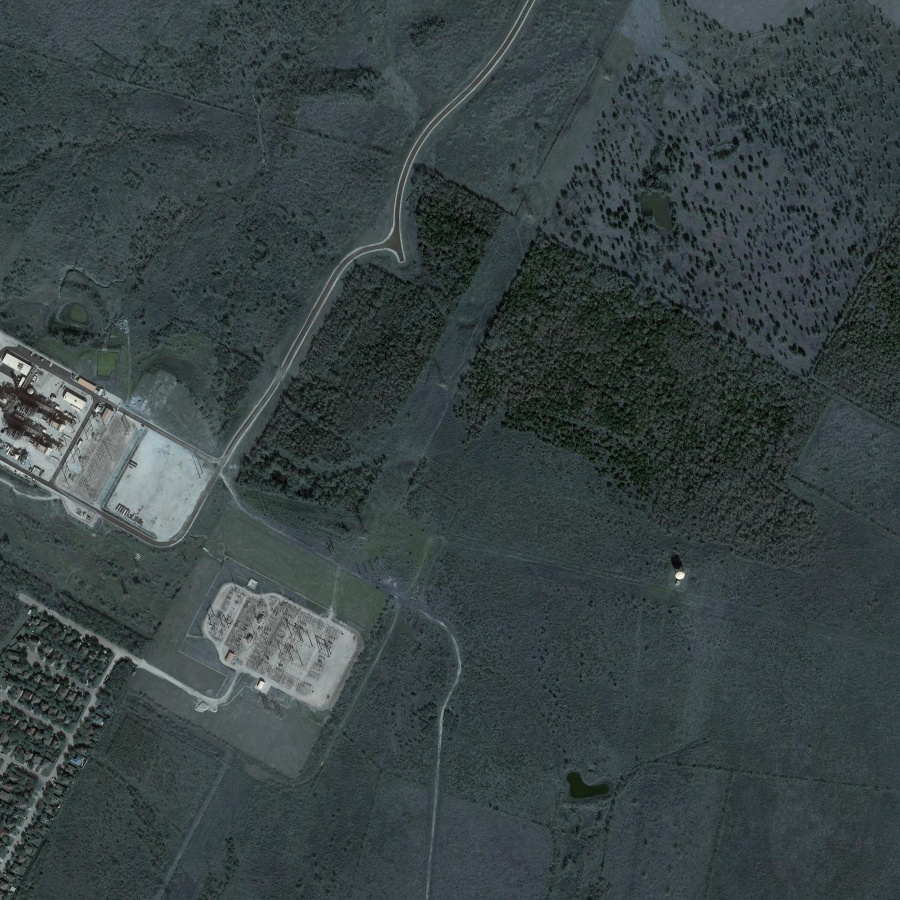PowerPlant: (200, 567, 346, 704)
